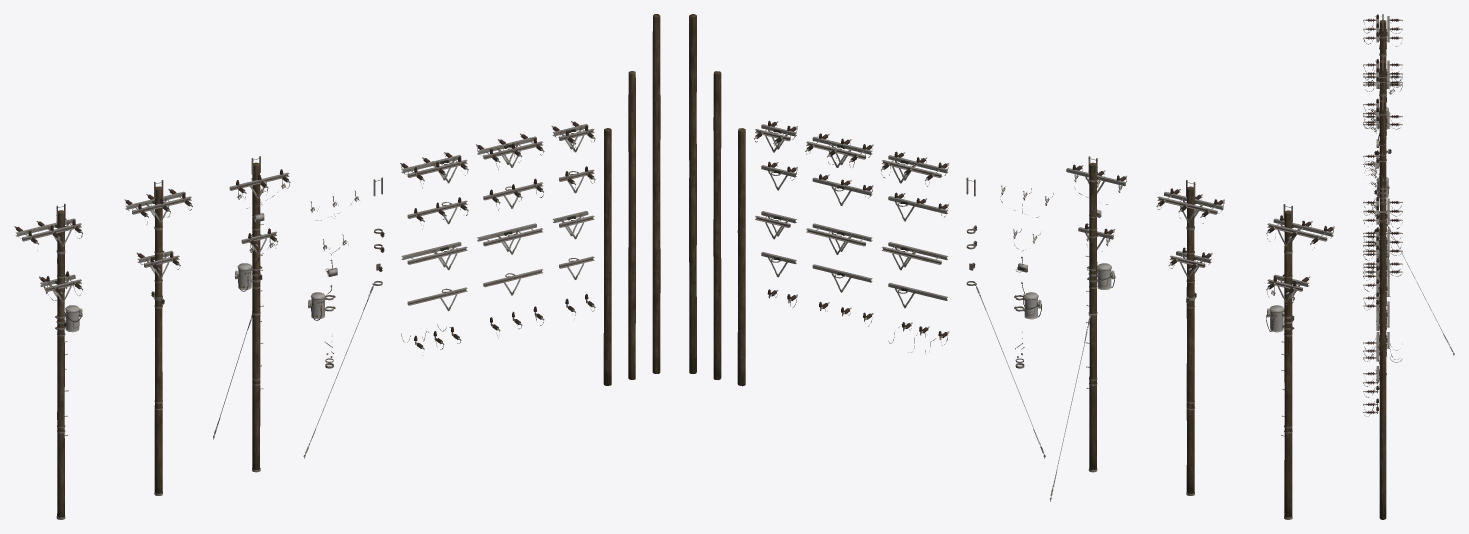
The model's file is modular_electricity_poles_lod1.glb.
3 renders of one model, left to right at view 1: azimuth 30°, elevation 25°; view 2: azimuth 150°, elevation 25°; view 3: azimuth 270°, elevation 25°, orthographic. The views are drawn at different scales.
Visible parts, largest first — view 1: bolt_large, pole; view 2: bolt_large, pole; view 3: bolt_large, pole.
Part boxes in pixels (x1,y1,x2,y2): bolt_large: (14, 121, 595, 519); pole: (57, 14, 660, 517); bolt_large: (754, 120, 1334, 519); pole: (689, 14, 1292, 517); bolt_large: (1363, 14, 1454, 416); pole: (1379, 20, 1386, 519).
Bounding box in the file's own units: 13.12 × 7 × 1.96.
2 materials, 2 textured.
